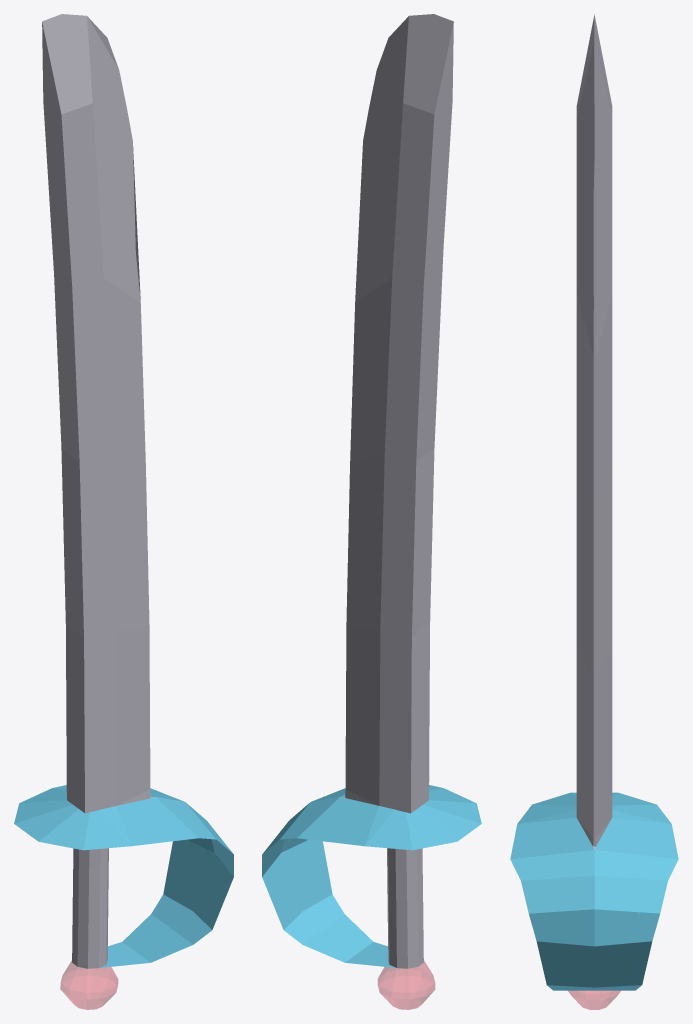
Rendered from saber2.glb.
3 renders of one model, left to right at view 1: azimuth 30°, elevation 25°; view 2: azimuth 150°, elevation 25°; view 3: azimuth 270°, elevation 25°, orthographic. The views are drawn at different scales.
Visible parts, largest first — view 1: Cube; view 2: Cube; view 3: Cube.
Part boxes in pixels (x1,y1,x2,y2): Cube: (14,14,233,1009); Cube: (262,14,481,1009); Cube: (510,14,678,1009).
Bounding box in the file's own units: 11.95 × 60.42 × 9.5.
